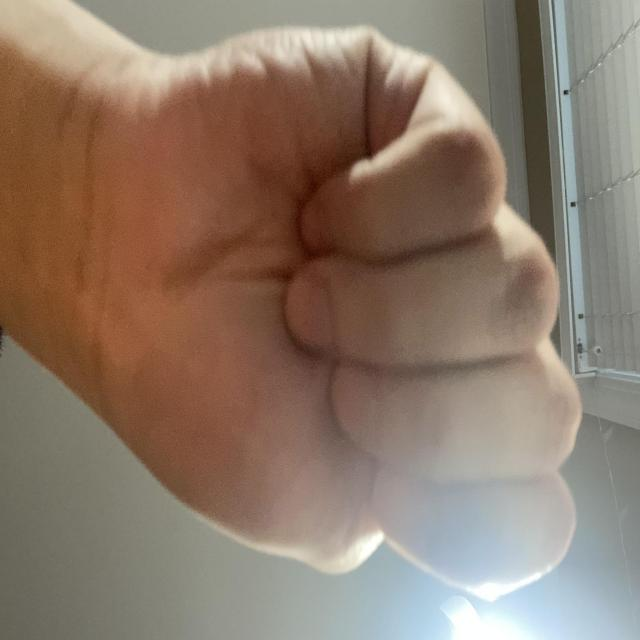M: (160, 69, 615, 640)
